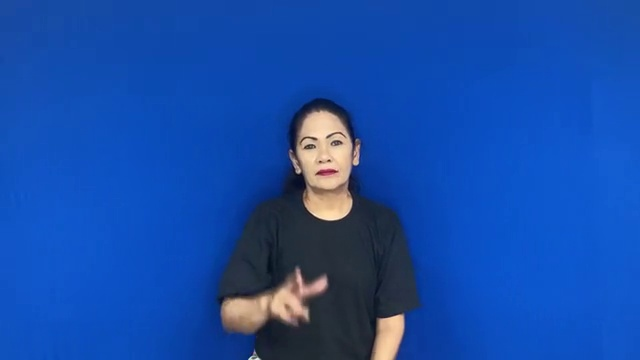chicken: (260, 260, 334, 337)
